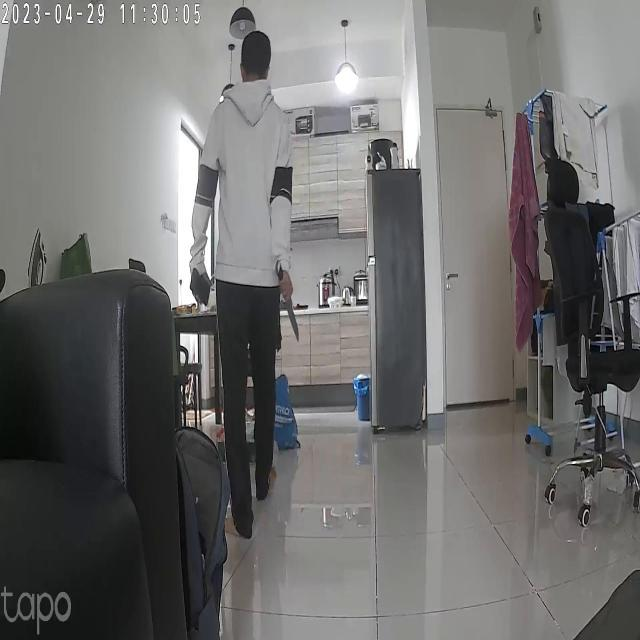Knife: (276, 272, 311, 343)
